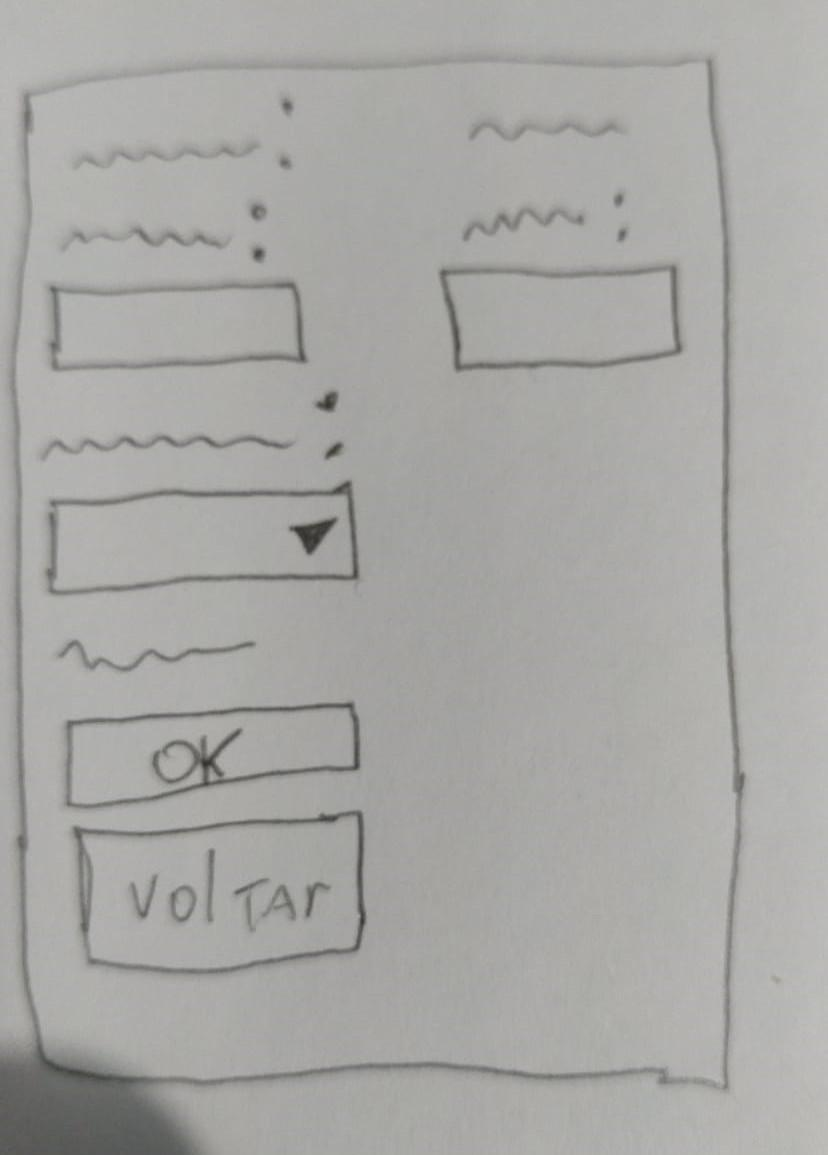Button: (72, 810, 366, 975), (65, 701, 360, 809)
Label: (41, 390, 344, 461), (74, 98, 296, 171), (61, 202, 268, 263), (462, 192, 627, 245), (55, 638, 257, 673), (468, 118, 626, 140)
ListPicker: (46, 481, 358, 595)
Screen: (12, 56, 743, 1088)
TextBox: (439, 264, 684, 371), (49, 279, 309, 371)
